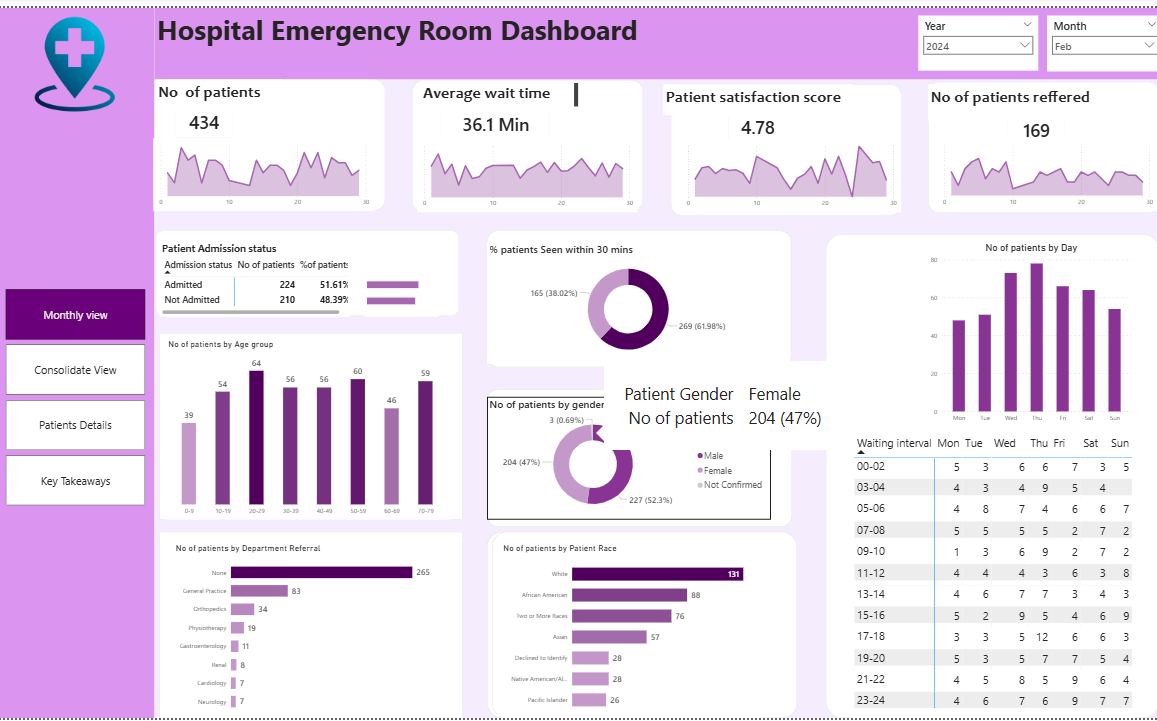

This screenshot's page, from the dashboard's own definition file:
{"tool":"powerbi","page":{"name":"Monthly view ","canvas":[2300,1400],"ordinal":0},"visuals":[{"type":"shape","box":[0,0,310,1400.5],"z":500},{"type":"shape","box":[966.6,752,601.6,271.2],"z":1000},{"type":"shape","box":[312,440,598,168],"z":2000},{"type":"shape","box":[310.7,0,1989.8,140.5],"z":3000},{"type":"textbox","box":[310.7,0,971.5,96.2],"z":4000},{"type":"shape","box":[310.7,140.5,455,258.9],"z":5000},{"type":"cardVisual","fields":{"Data":["Hospital ER_Data.No of patients"]},"box":[333.4,171.3,149.9,104],"z":6000},{"type":"slicer","fields":{"Values":["Date Table.Year"]},"box":[1817.2,14.8,236.7,108.5],"z":7000},{"type":"slicer","fields":{"Values":["Date Table.Month"]},"box":[2072,16,228,110],"z":8000},{"type":"textbox","box":[312,140.7,250.8,61.2],"z":9000},{"type":"areaChart","fields":{"Category":["Date Table.Date.Variation.Date Hierarchy.Day"],"Y":["Hospital ER_Data.No of patients"]},"box":[308.9,256.9,434.3,143.8],"z":10000},{"type":"shape","box":[819.7,143.2,455,258.9],"z":11000},{"type":"cardVisual","fields":{"Data":["Hospital ER_Data.Avg wait_time"]},"box":[858.9,175,250.5,103.4],"z":12000},{"type":"textbox","box":[835,143.8,315,61.2],"z":13000},{"type":"shape","box":[1328.7,150.5,455,258.9],"z":14000},{"type":"cardVisual","fields":{"Data":["Hospital ER_Data.Satisfaction"]},"box":[1425.3,180.5,149.9,104],"z":15000},{"type":"textbox","box":[1315.2,149.9,373.1,61.2],"z":16000},{"type":"shape","box":[1837.7,145.7,455,258.9],"z":17000},{"type":"cardVisual","fields":{"Data":["Hospital ER_Data.Patients reffered"]},"box":[1975.8,186.6,149.9,104],"z":18000},{"type":"textbox","box":[1838.2,149.9,348.7,73.4],"z":19000},{"type":"areaChart","fields":{"Category":["Date Table.Date.Variation.Date Hierarchy.Day"],"Y":["Avg(Hospital ER_Data.Patient Waittime)"]},"box":[828.9,260,434.3,143.8],"z":20000},{"type":"areaChart","fields":{"Category":["Date Table.Date.Variation.Date Hierarchy.Day"],"Y":["Hospital ER_Data.Satisfaction"]},"box":[1348.8,260,434.3,143.8],"z":21000},{"type":"areaChart","fields":{"Category":["Date Table.Date.Variation.Date Hierarchy.Day"],"Y":["Hospital ER_Data.Patients reffered"]},"box":[1853.5,256.9,434.3,143.8],"z":22000},{"type":"pivotTable","title":"Patient Admission status","fields":{"Rows":["Hospital ER_Data.Admission status"],"Values":["Hospital ER_Data.No of patients1","Hospital ER_Data.No of patients"]},"box":[320,460,376,148],"z":23000},{"type":"barChart","fields":{"Category":["Hospital ER_Data.Admission status"],"Y":["Hospital ER_Data.No of patients"]},"box":[724,510,146,98],"z":24000},{"type":"shape","box":[320,642,598,368],"z":25000},{"type":"clusteredColumnChart","fields":{"Category":["Hospital ER_Data.Age group"],"Y":["Hospital ER_Data.No of patients"]},"box":[332,654,560,356],"z":26000},{"type":"shape","box":[320,1032,598,368],"z":27000},{"type":"clusteredBarChart","fields":{"Category":["Hospital ER_Data.Department Referral"],"Y":["Hospital ER_Data.No of patients"]},"box":[347.5,1055,512.5,345],"z":28000},{"type":"shape","box":[967.5,440,600,270],"z":29000},{"type":"donutChart","title":"% patients Seen within 30 mins","fields":{"Category":["Hospital ER_Data.Waiting time"],"Y":["Hospital ER_Data.No of patients"]},"box":[967.5,460,557.5,240],"z":30000},{"type":"donutChart","title":"No  of patients by  gender","fields":{"Category":["Hospital ER_Data.Patient Gender"],"Y":["Hospital ER_Data.No of patients"]},"box":[967.6,767.9,557.5,240],"z":31000},{"type":"shape","box":[966.6,1033.1,601.6,367.4],"z":32000},{"type":"shape","box":[966.6,1032.6,601.6,367.4],"z":33000},{"type":"shape","box":[976.6,1032.6,601.6,367.4],"z":34000},{"type":"clusteredBarChart","fields":{"Y":["Hospital ER_Data.No of patients"],"Category":["Hospital ER_Data.Patient Race"]},"box":[993.7,1055.3,512.9,345.2],"z":35000},{"type":"shape","box":[1634.8,446.3,658.3,954.2],"z":36000},{"type":"pivotTable","fields":{"Rows":["Hospital ER_Data.Waiting interval"],"Columns":["Date Table.Day Name"],"Values":["Hospital ER_Data.No of patients"]},"box":[1686.5,835.9,557.2,564.6],"z":37000},{"type":"clusteredColumnChart","title":"No of patients by Day","fields":{"Y":["Hospital ER_Data.No of patients"],"Category":["Date Table.Day Name"]},"box":[1836.9,461.1,406.8,364.9],"z":38000},{"type":"image","box":[50,17.5,207.5,187.5],"z":39001},{"type":"pageNavigator","box":[17.5,555,275,427.5],"z":39002}]}

Visuals, with their boxes in screenshot pixels (x1, y1, x2, y2), scaled from the page's 2300x1400 canvas onto the 1157x721 screenshot:
shape: bbox(0, 0, 156, 720)
shape: bbox(486, 387, 789, 527)
shape: bbox(157, 227, 458, 313)
shape: bbox(156, 0, 1156, 72)
textbox: bbox(156, 0, 645, 50)
shape: bbox(156, 72, 385, 206)
cardVisual - Hospital ER_Data.No of patients: bbox(168, 88, 243, 142)
slicer - Date Table.Year: bbox(914, 8, 1033, 63)
slicer - Date Table.Month: bbox(1042, 8, 1156, 65)
textbox: bbox(157, 72, 283, 104)
areaChart - Date Table.Date.Variation.Date Hierarchy.Day x Hospital ER_Data.No of patients: bbox(155, 132, 374, 206)
shape: bbox(412, 74, 641, 207)
cardVisual - Hospital ER_Data.Avg wait_time: bbox(432, 90, 558, 143)
textbox: bbox(420, 74, 578, 106)
shape: bbox(668, 78, 897, 211)
cardVisual - Hospital ER_Data.Satisfaction: bbox(717, 93, 792, 147)
textbox: bbox(662, 77, 849, 109)
shape: bbox(924, 75, 1153, 208)
cardVisual - Hospital ER_Data.Patients reffered: bbox(994, 96, 1069, 150)
textbox: bbox(925, 77, 1100, 115)
areaChart - Date Table.Date.Variation.Date Hierarchy.Day x Avg(Hospital ER_Data.Patient Waittime): bbox(417, 134, 635, 208)
areaChart - Date Table.Date.Variation.Date Hierarchy.Day x Hospital ER_Data.Satisfaction: bbox(679, 134, 897, 208)
areaChart - Date Table.Date.Variation.Date Hierarchy.Day x Hospital ER_Data.Patients reffered: bbox(932, 132, 1151, 206)
"Patient Admission status" pivotTable: bbox(161, 237, 350, 313)
barChart - Hospital ER_Data.Admission status x Hospital ER_Data.No of patients: bbox(364, 263, 438, 313)
shape: bbox(161, 331, 462, 520)
clusteredColumnChart - Hospital ER_Data.Age group x Hospital ER_Data.No of patients: bbox(167, 337, 449, 520)
shape: bbox(161, 531, 462, 720)
clusteredBarChart - Hospital ER_Data.Department Referral x Hospital ER_Data.No of patients: bbox(175, 543, 433, 720)
shape: bbox(487, 227, 789, 366)
"% patients Seen within 30 mins" donutChart: bbox(487, 237, 767, 360)
"No  of patients by  gender" donutChart: bbox(487, 395, 767, 519)
shape: bbox(486, 532, 789, 720)
shape: bbox(486, 532, 789, 720)
shape: bbox(491, 532, 794, 720)
clusteredBarChart - Hospital ER_Data.No of patients x Hospital ER_Data.Patient Race: bbox(500, 543, 758, 720)
shape: bbox(822, 230, 1154, 720)
pivotTable - Hospital ER_Data.Waiting interval x Date Table.Day Name: bbox(848, 430, 1129, 720)
"No of patients by Day" clusteredColumnChart: bbox(924, 237, 1129, 425)
image: bbox(25, 9, 130, 106)
pageNavigator: bbox(9, 286, 147, 506)
